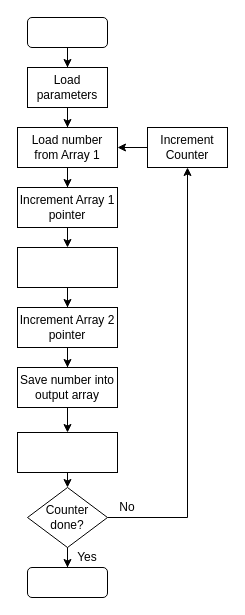
The diagram is 245 pixels wide and 615 high, and some of its shapes have lost their labels. The centre of each missing label's shape, as x and y in pixels:
"Add number from Array 2" goes at pixel 67 267.
"Increment output array pointer" goes at pixel 67 452.
"Start" goes at pixel 67 32.
"Stop" goes at pixel 67 582.
